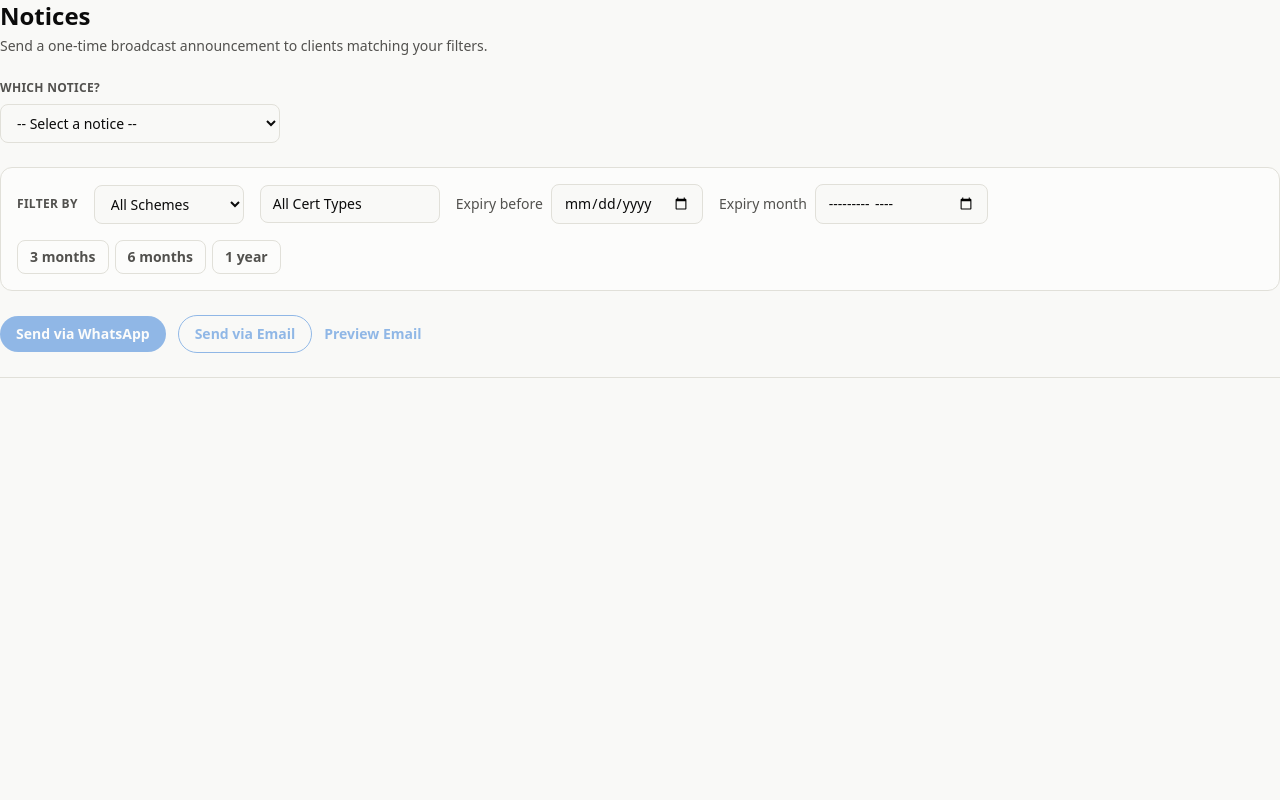
NoticesView › sends the notice via WhatsApp and shows progress through to done
Select "Transition Facilitation Order 2026" in the dropdown named "Which notice?": [140, 124] box [0,104,280,143]
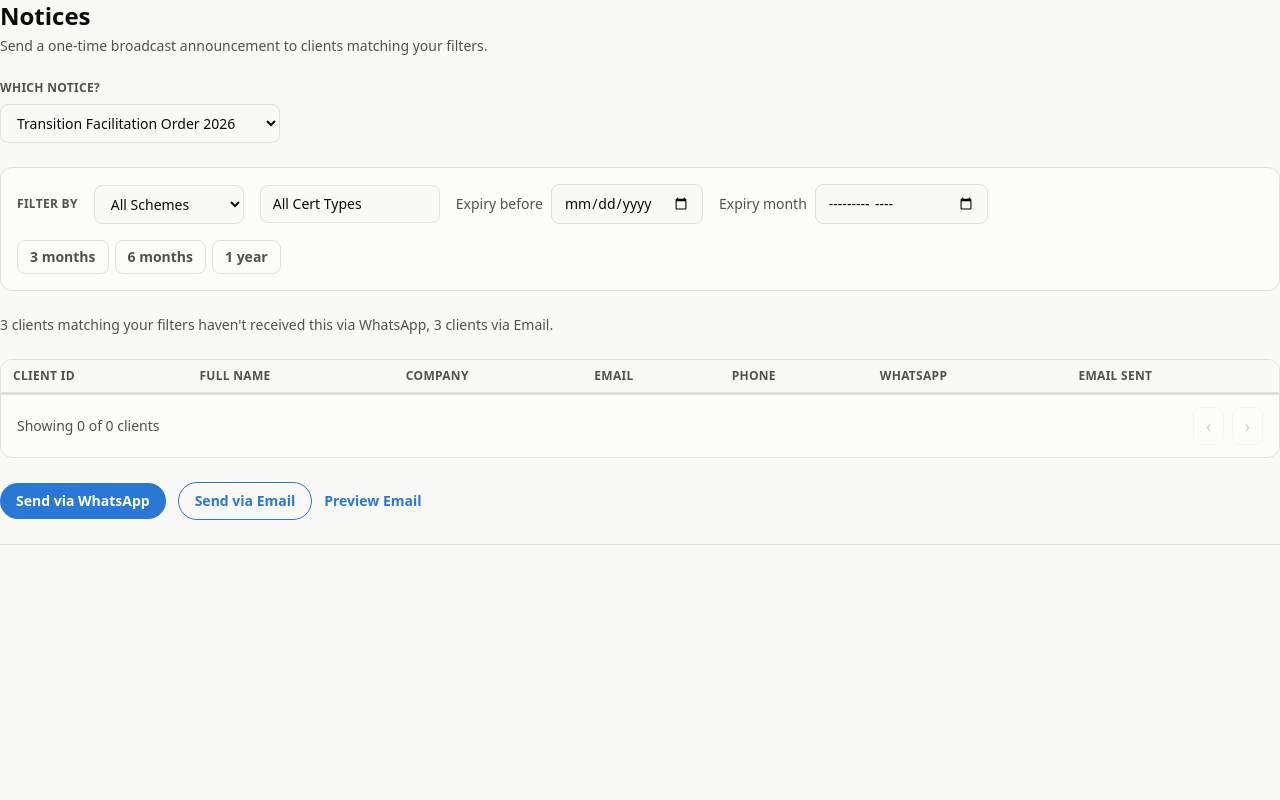
Expected: the button "Send via WhatsApp" is enabled
Click the button "Send via WhatsApp": [83, 501] box [0,483,166,519]
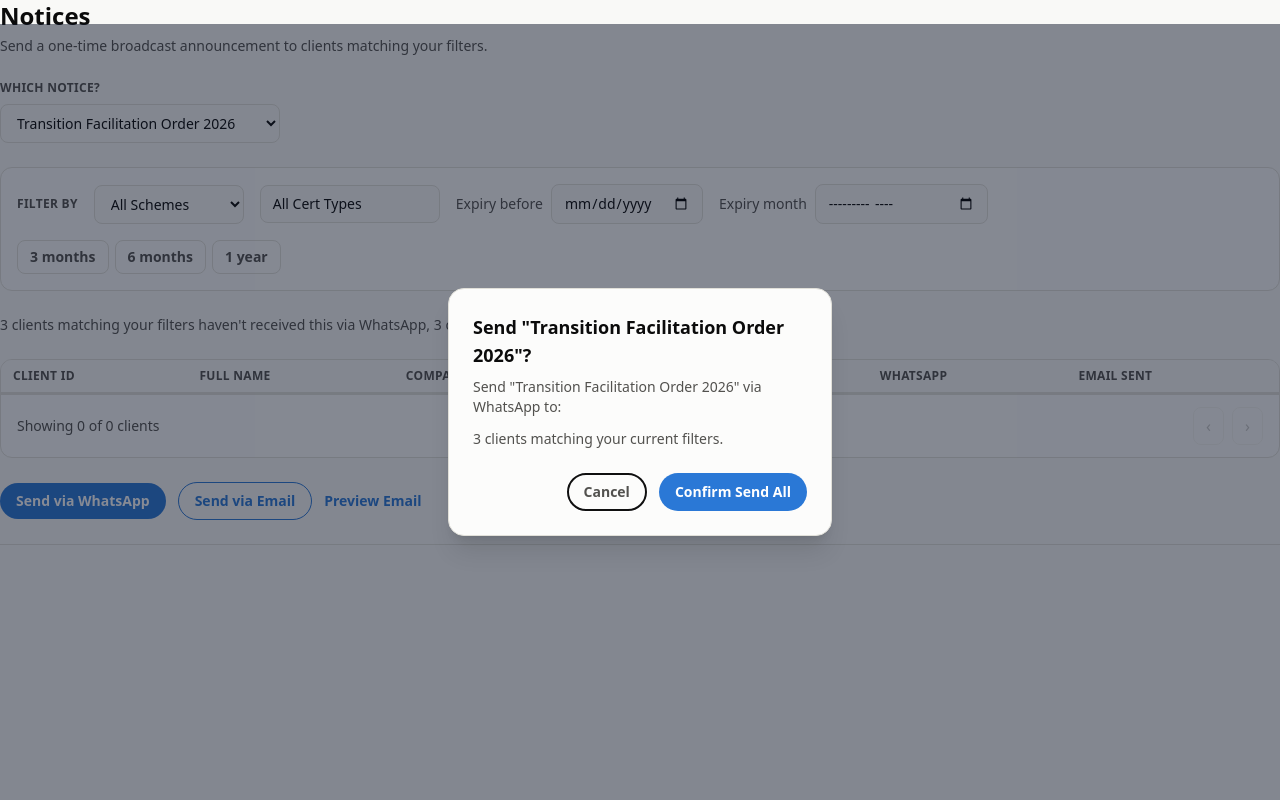
Expected: the button "Confirm Send All" is shown
Click the button "Confirm Send All": [733, 492] box [659,473,807,511]
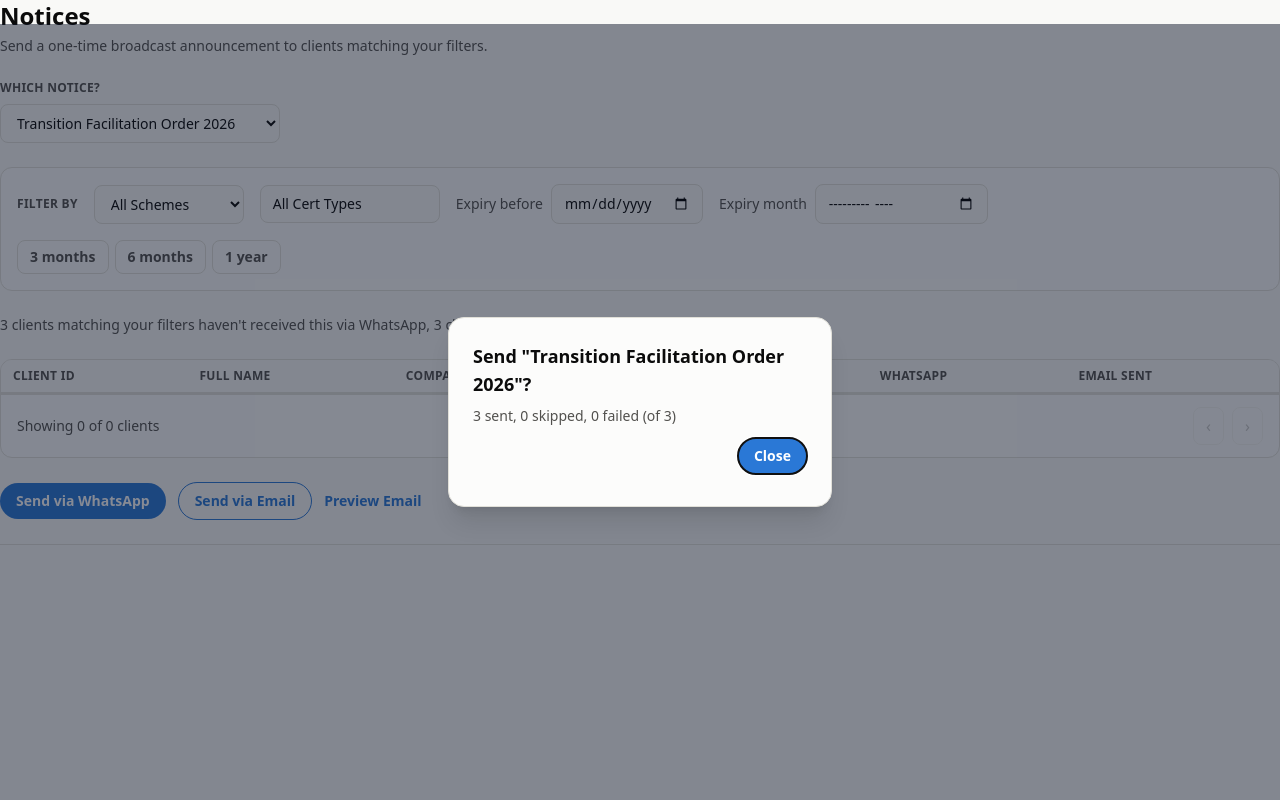
Expected: the text "3 sent, 0 skipped, 0 failed (of 3)" is shown, [473,406,676,425]
